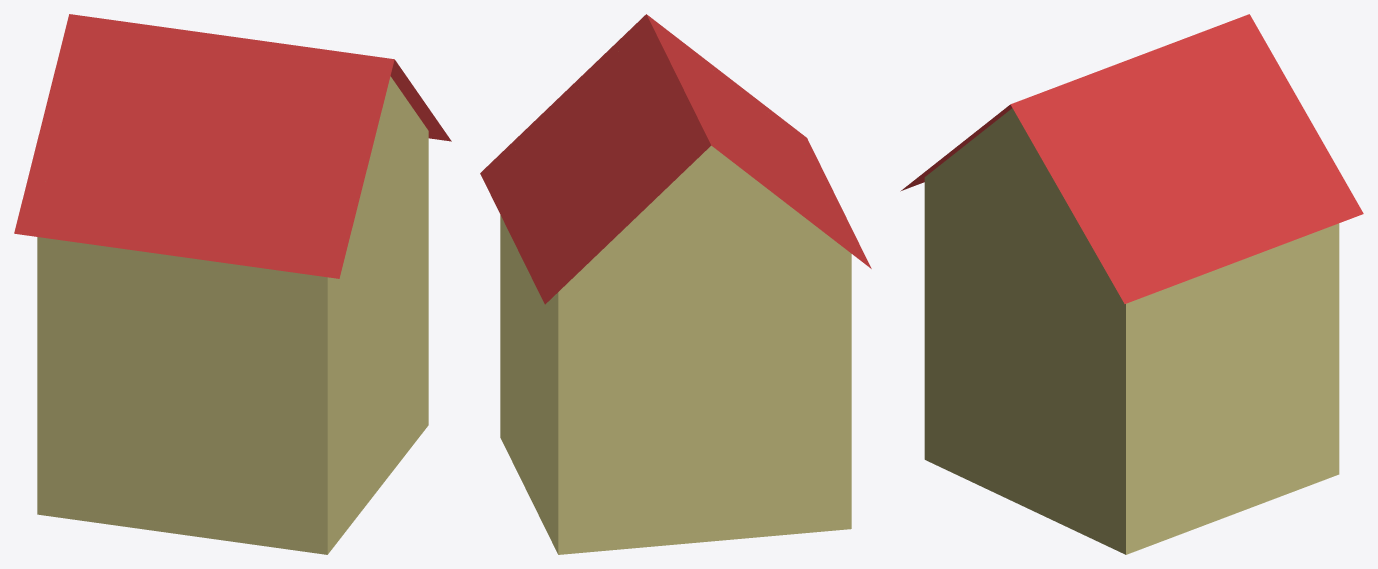
3 renders of one model, left to right at view 1: azimuth 30°, elevation 25°; view 2: azimuth 150°, elevation 25°; view 3: azimuth 270°, elevation 25°, orthographic. The views are drawn at different scales.
Bounding box in the file's own units: 13.39 × 13.35 × 12.93.
